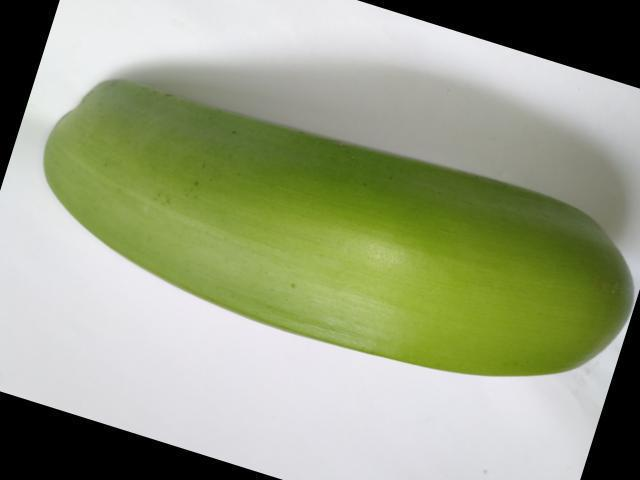freshunripe: (31, 64, 639, 389)
